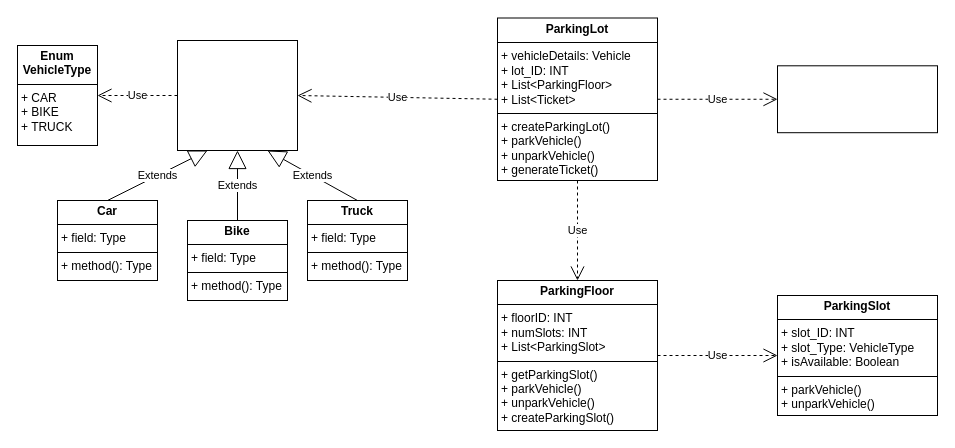
This 955x448 diagram has some shape labels left out. Each missing label, with the centre of its shape:
"Ticket + ticket_ID: String + vehicleDetails: Vehicle" goes at point 857,99.
"Vehicle + reg_no: INT + type: VehicleType + colour: String + method(): Type" goes at point 237,95.
